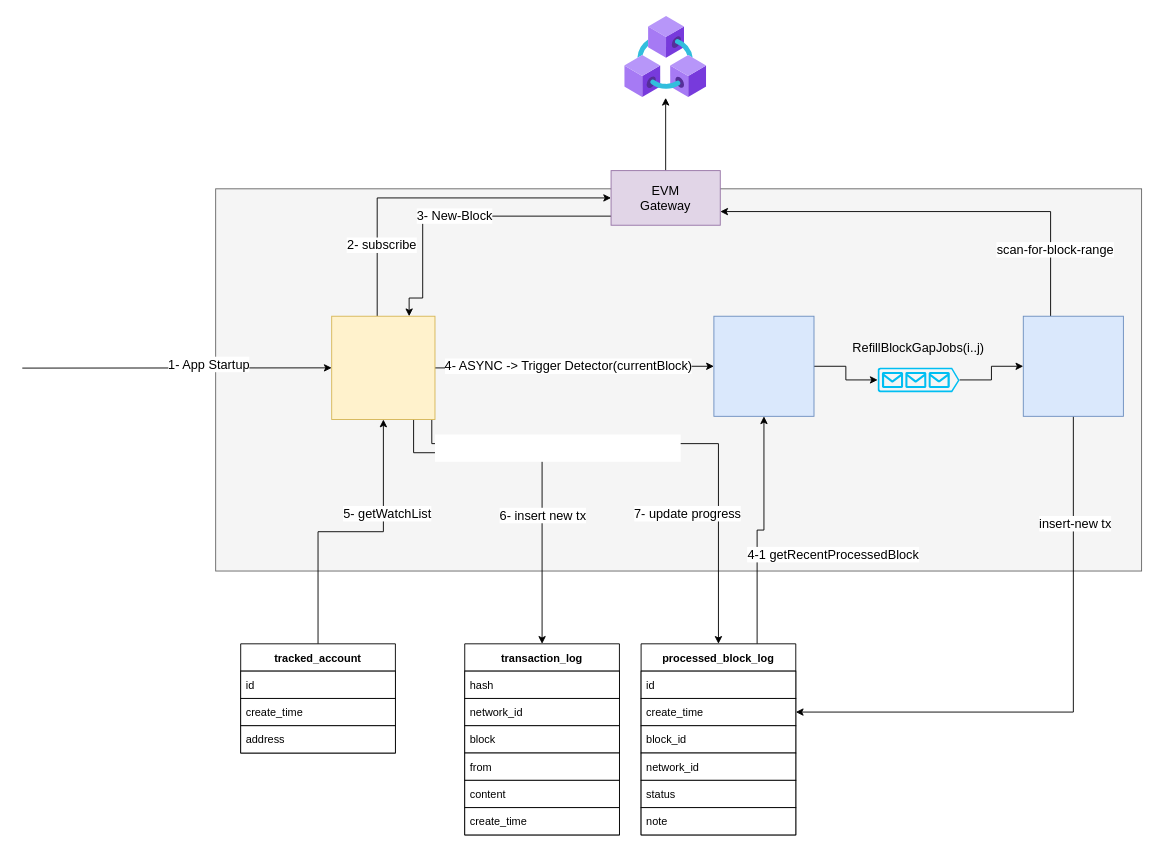
Image size: 1158x851. Some labels were removed from this diagram. Each missing label, with the centre of its shape:
"Backfiller JOB Executor" belongs at (1072,365).
"Block Event Listner" belongs at (383,367).
"EVM-Chain" belongs at (665,56).
"Out of Sync Detector" belongs at (763,365).
"Realtime Block Listener" belongs at (557,447).
